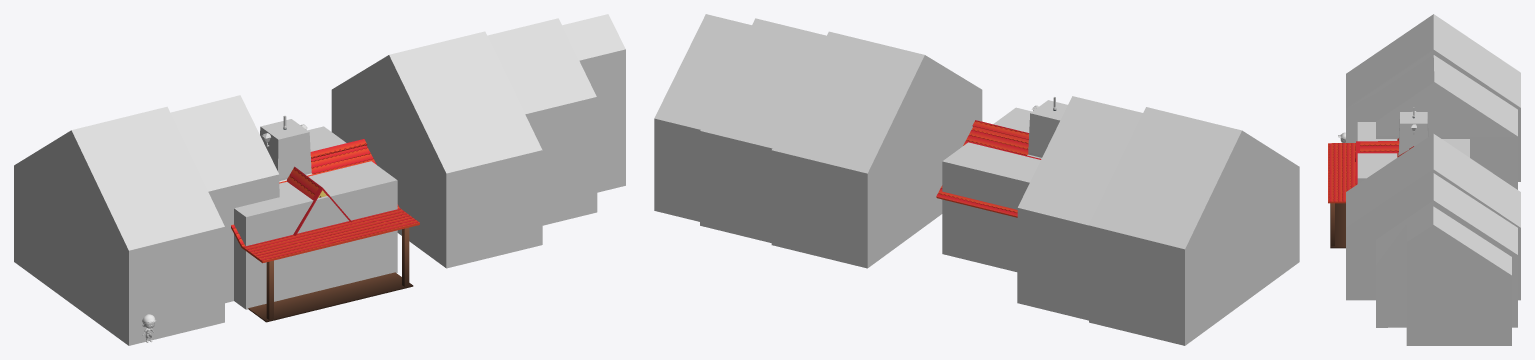
The model's file is TiangLampu.fbx.
3 renders of one model, left to right at view 1: azimuth 30°, elevation 25°; view 2: azimuth 150°, elevation 25°; view 3: azimuth 270°, elevation 25°, orthographic. The views are drawn at different scales.
Visible parts, largest first — view 1: Cube.010, Cube.015, Colidder, Houses, Floor, Cube.007, Pillar2, Pillar1; view 2: Cube.010, Cube.015, Colidder, Houses, Cube.007; view 3: Cube.010, Cube.015, Houses, Colidder, Cube.007, Floor, Pillar2.
Boxes of the visible parts, box(x1,y1,x2,y2) form: Cube.010: box(331, 14, 625, 268); Cube.015: box(14, 95, 279, 345); Colidder: box(234, 126, 397, 309); Houses: box(231, 139, 419, 263); Floor: box(248, 272, 413, 322); Cube.007: box(260, 119, 312, 182); Pillar2: box(402, 227, 409, 286); Pillar1: box(266, 260, 273, 319); Cube.010: box(654, 14, 982, 268); Cube.015: box(1017, 96, 1299, 345); Colidder: box(942, 107, 1040, 271); Houses: box(936, 120, 1041, 217); Cube.007: box(1027, 100, 1067, 158); Cube.010: box(1346, 133, 1520, 345); Cube.015: box(1346, 14, 1520, 189); Houses: box(1328, 138, 1413, 203); Colidder: box(1357, 122, 1469, 183); Cube.007: box(1398, 112, 1428, 155); Floor: box(1330, 203, 1345, 248); Pillar2: box(1331, 203, 1334, 245).
Size of what is drawn, in the model's own units: 4411 by 1365 by 1801.
